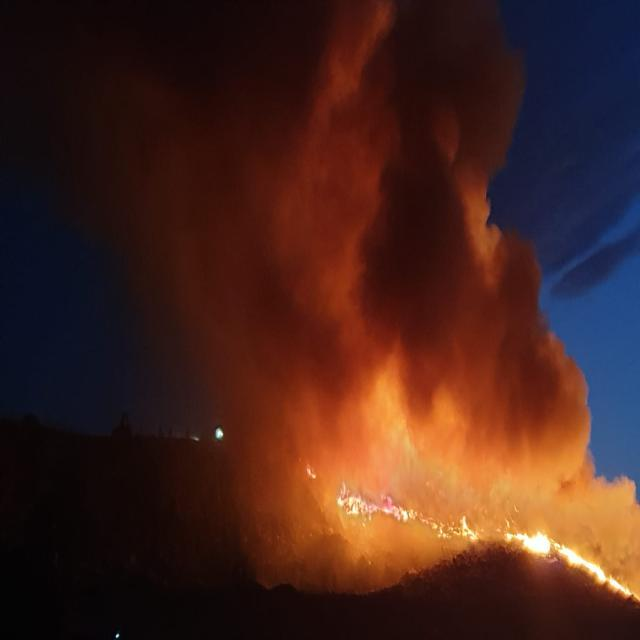Fire: (514, 516, 624, 592), (331, 480, 422, 536)
Smoke: (95, 0, 637, 519)
